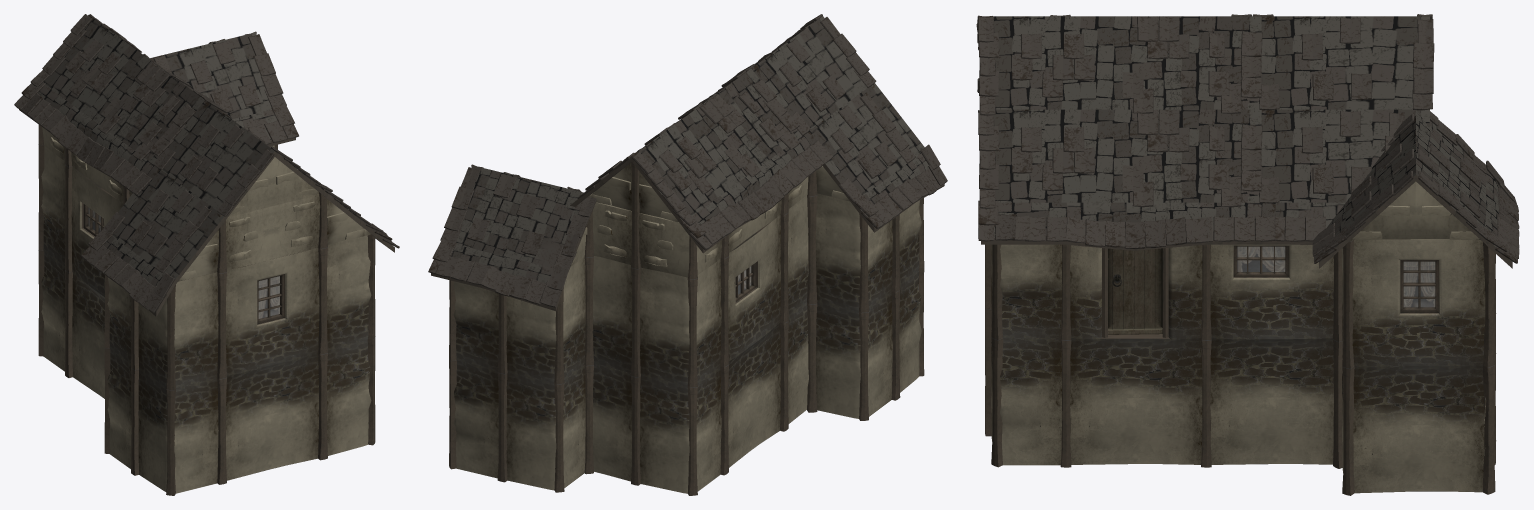
File: Village2_houe3.fbx
The picture shows the model from 3 angles, left to right: view 1: azimuth 30°, elevation 25°; view 2: azimuth 150°, elevation 25°; view 3: azimuth 270°, elevation 25°; orthographic projection. The views are drawn at different scales.
Visible parts, largest first — view 1: roof.134, Underground.043, Underground.042, Underground.044, roof.135, roof.133, Underground.045, roof.118, Roof_long_strip_low.052, Underground.040, Underground.041, Roof_long_strip_low.053 (+35 smaller); view 2: roof.134, roof.126, Underground.034, Underground.035, Underground.024, roof.135, Underground.046, roof.133, Underground.047, Underground.025, Roof_long_strip_low.052, Underground.038 (+39 smaller); view 3: roof.130, roof.128, Underground.032, Underground.029, roof.131, Underground.030, Underground.028, Roof_long_strip_low.047, roof.129, Underground.031, Underground.040, Underground.033 (+27 smaller).
Boxes of the visible parts, x1,y1,x2,y2 form: roof.134: [30, 14, 204, 163]; Underground.043: [226, 353, 318, 480]; Underground.042: [226, 248, 319, 375]; Underground.044: [138, 369, 218, 493]; roof.135: [153, 100, 274, 220]; roof.133: [103, 169, 224, 286]; Underground.045: [138, 272, 218, 387]; roof.118: [153, 32, 286, 119]; Roof_long_strip_low.052: [14, 82, 159, 195]; Underground.040: [327, 339, 371, 455]; Underground.041: [327, 235, 371, 350]; Roof_long_strip_low.053: [81, 229, 174, 316]; roof.134: [632, 68, 801, 227]; roof.126: [440, 165, 596, 271]; Underground.034: [640, 366, 721, 493]; Underground.035: [640, 259, 721, 385]; Underground.024: [506, 365, 585, 490]; roof.135: [751, 16, 876, 135]; Underground.046: [808, 292, 892, 418]; roof.133: [809, 83, 924, 206]; Underground.047: [808, 193, 892, 310]; Underground.025: [506, 257, 585, 381]; Roof_long_strip_low.052: [681, 131, 832, 253]; Underground.038: [728, 323, 780, 467]; roof.130: [978, 16, 1262, 115]; roof.128: [978, 109, 1262, 208]; Underground.032: [1070, 338, 1202, 464]; Underground.029: [1353, 365, 1484, 493]; roof.131: [1259, 16, 1434, 110]; Underground.030: [1210, 338, 1333, 464]; Underground.028: [1349, 239, 1485, 366]; Roof_long_strip_low.047: [978, 200, 1275, 250]; roof.129: [1259, 109, 1429, 203]; Underground.031: [1210, 244, 1333, 339]; Underground.040: [991, 312, 1062, 465]; Underground.033: [1070, 245, 1202, 339].
Size of the model in its own units: 574 by 612 by 774.
